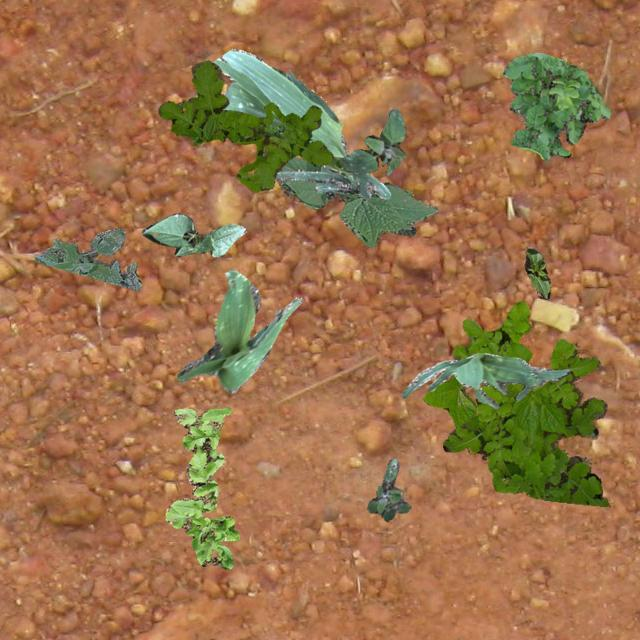crop: (212, 48, 390, 200), (176, 268, 302, 392), (278, 156, 437, 246), (400, 352, 570, 408), (140, 212, 246, 256), (422, 373, 476, 428), (524, 246, 550, 298)
weed: (442, 300, 608, 506), (158, 60, 332, 192), (164, 407, 238, 568), (502, 51, 610, 160), (34, 228, 140, 290), (338, 108, 404, 174), (366, 458, 410, 520)
